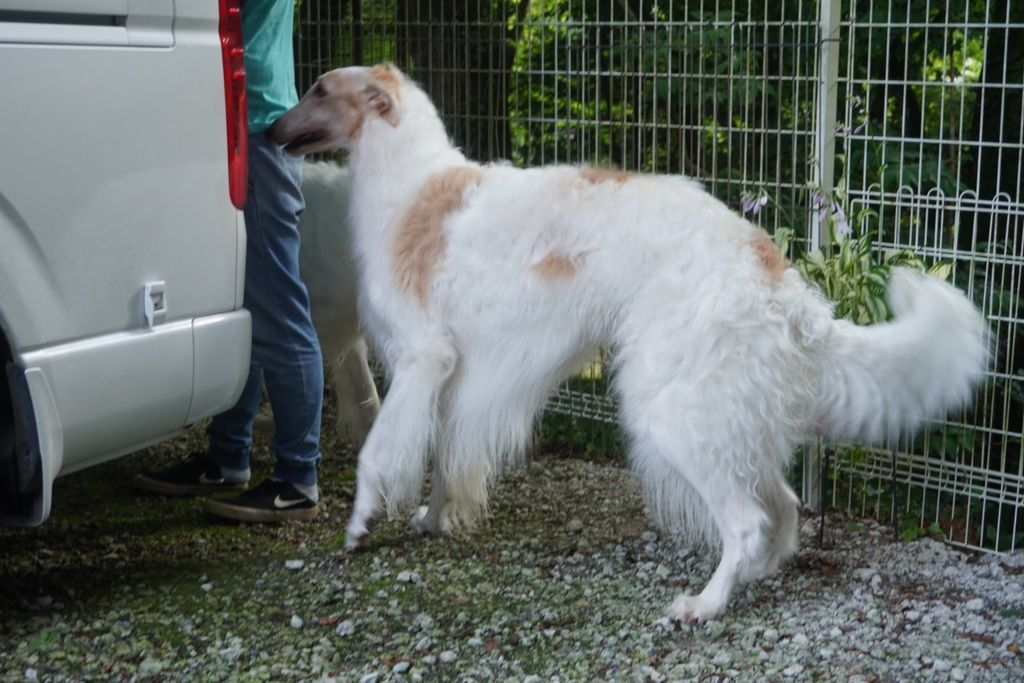borzoi: (243, 61, 984, 623)
